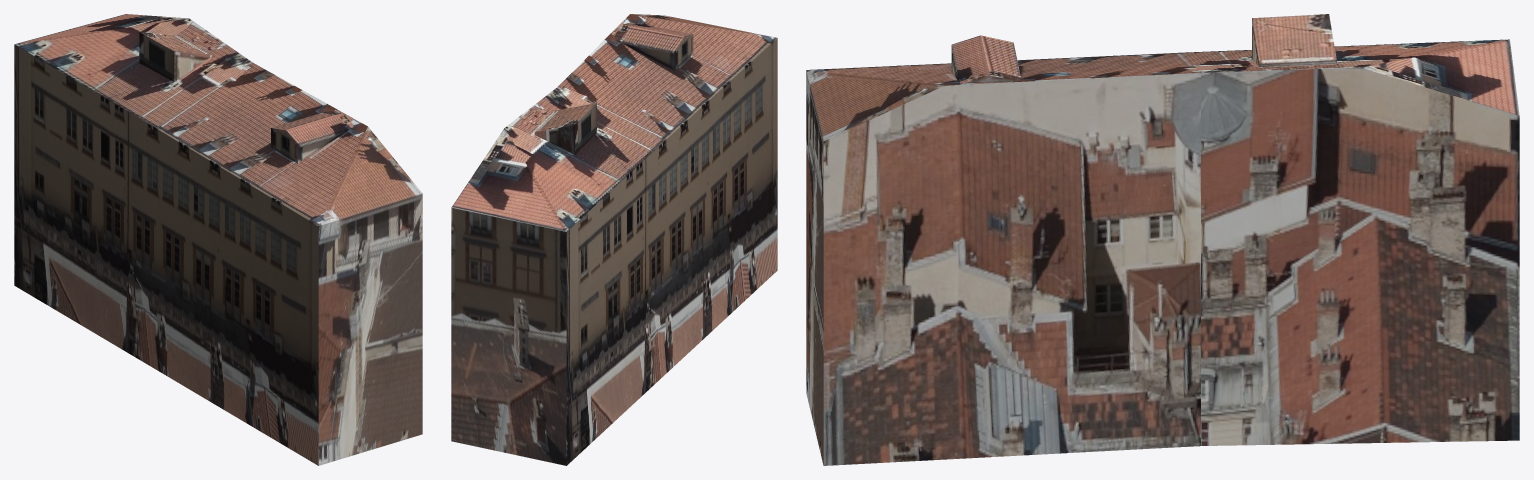
The picture shows the model from 3 angles, left to right: view 1: azimuth 30°, elevation 25°; view 2: azimuth 150°, elevation 25°; view 3: azimuth 270°, elevation 25°; orthographic projection. The views are drawn at different scales.
Parts seen in each view (by area): view 1: Z_UP; view 2: Z_UP; view 3: Z_UP.
Boxes of the visible parts, x1,y1,x2,y2 form: Z_UP: [14, 14, 422, 465]; Z_UP: [451, 14, 777, 465]; Z_UP: [806, 14, 1519, 465].
Size of the model in its own units: 12.99 by 23.26 by 38.66.
2 materials, 1 textured.
